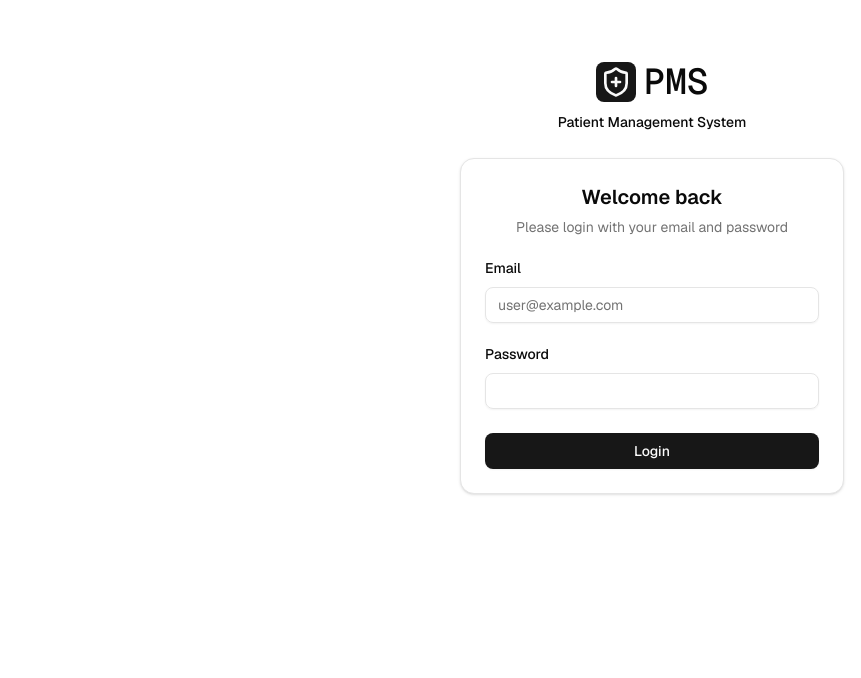
Test: Login flow integration › shows error on invalid credentials (401)
The image size is (861, 678).
# Perform user actions
Type "wrong@example.com" into the field labelled "Email" at (652, 305), box [485,287,819,323]
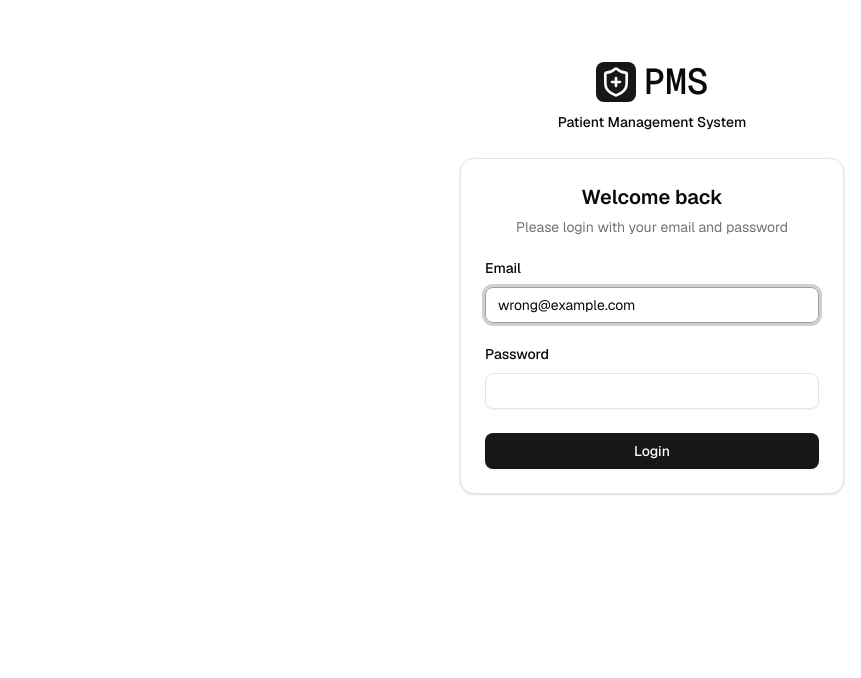
Type "wrongpass" into the password field labelled "Password" at (652, 391), box [485,373,819,409]
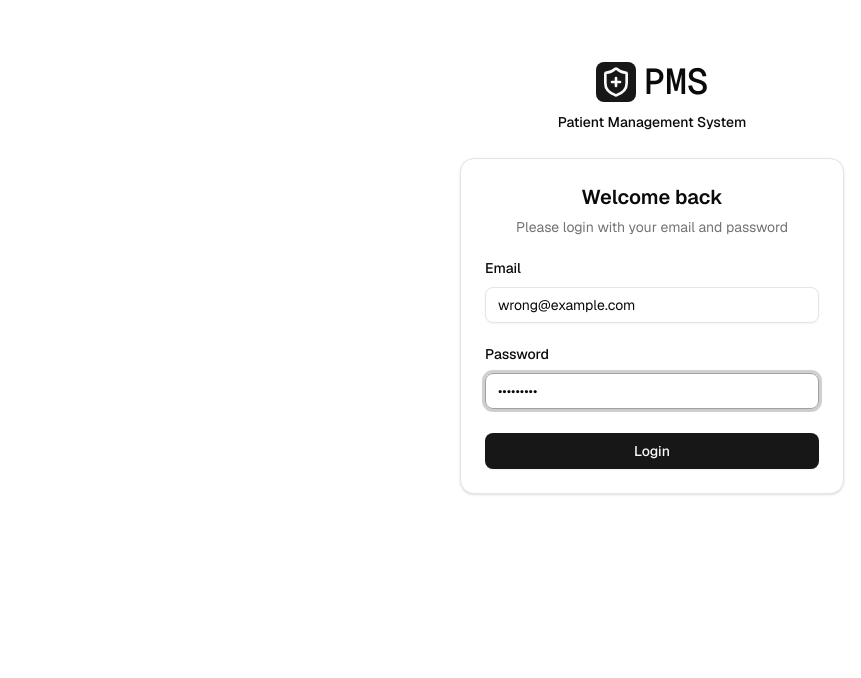
Click the button "Login" at (652, 451), box [485,433,819,469]
(page scrolled)
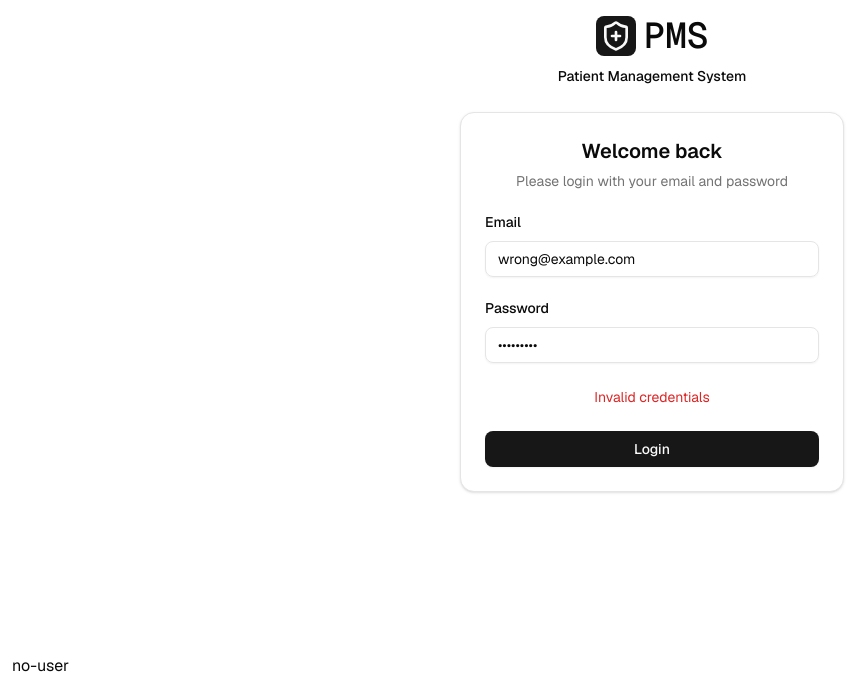
Check: the text with test id "user-email" reads "no-user", box [12,655,69,676]
Check: the text "Invalid credentials" is shown, box [594,388,710,406]
